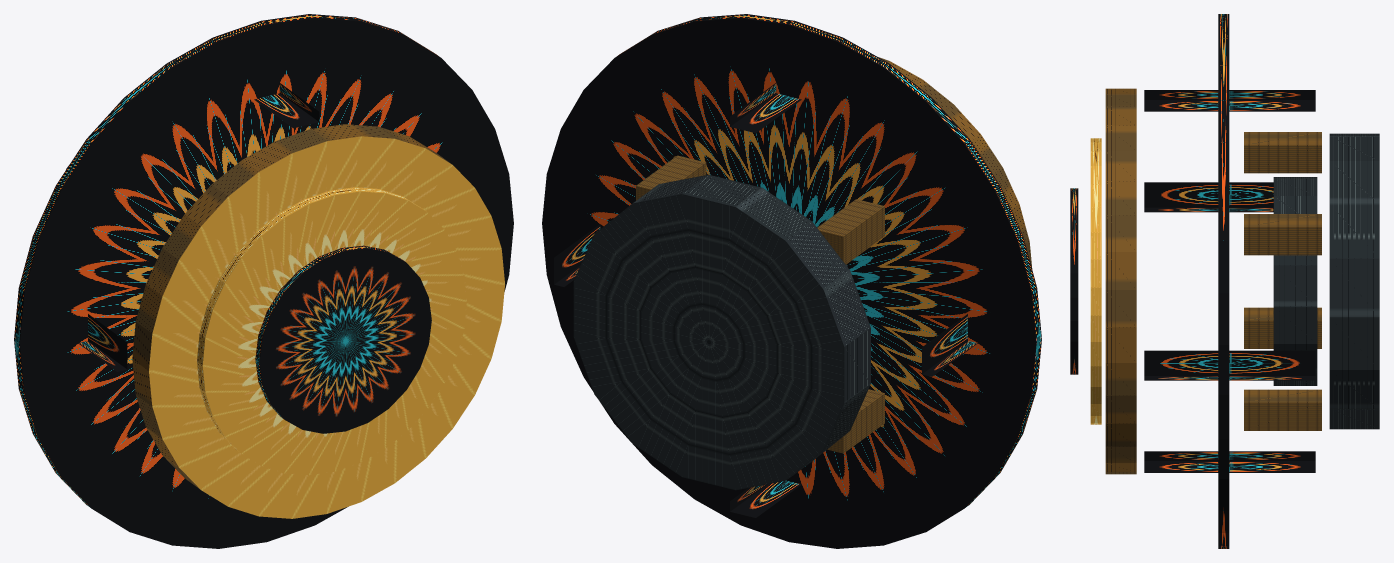
File: rustchain_rtc_token_pickup_source.obj
3 renders of one model, left to right at view 1: azimuth 30°, elevation 25°; view 2: azimuth 150°, elevation 25°; view 3: azimuth 270°, elevation 25°, orthographic. The views are drawn at different scales.
Parts seen in each view (by area): view 1: rustchain_rtc_token_pickup; view 2: rustchain_rtc_token_pickup; view 3: rustchain_rtc_token_pickup.
Part boxes in pixels (x1,y1,x2,y2): rustchain_rtc_token_pickup: (14,14,513,548); rustchain_rtc_token_pickup: (542,14,1041,548); rustchain_rtc_token_pickup: (1070,14,1379,548).
Size of the model in its own units: 1.72 by 1.72 by 0.9925.
4 materials, 4 textured.
